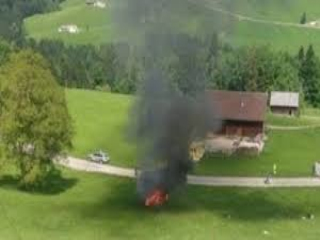fire: (143, 190, 171, 208)
smoke: (133, 9, 203, 190)
